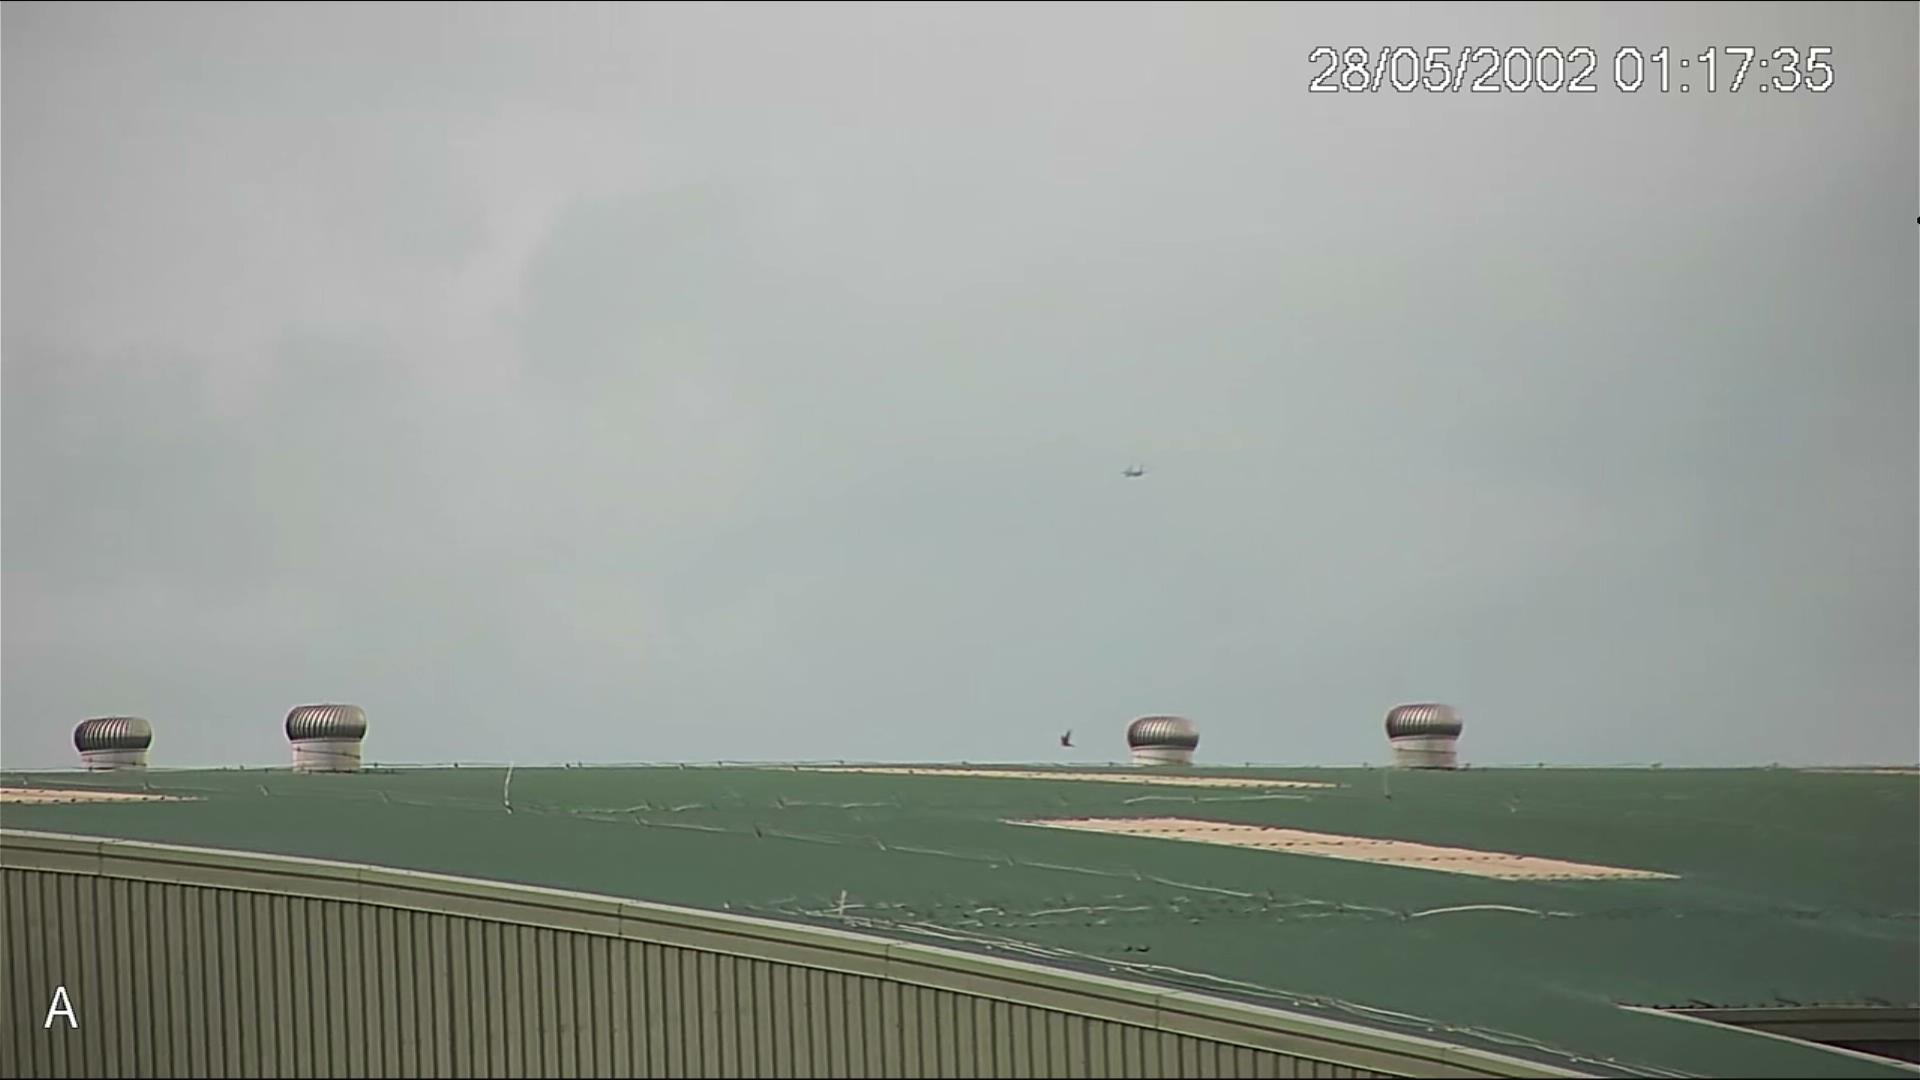SU_30: (1120, 463, 1145, 477)
